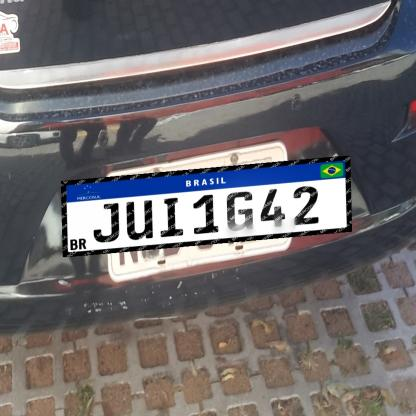PlacaM: (61, 156, 352, 257)
